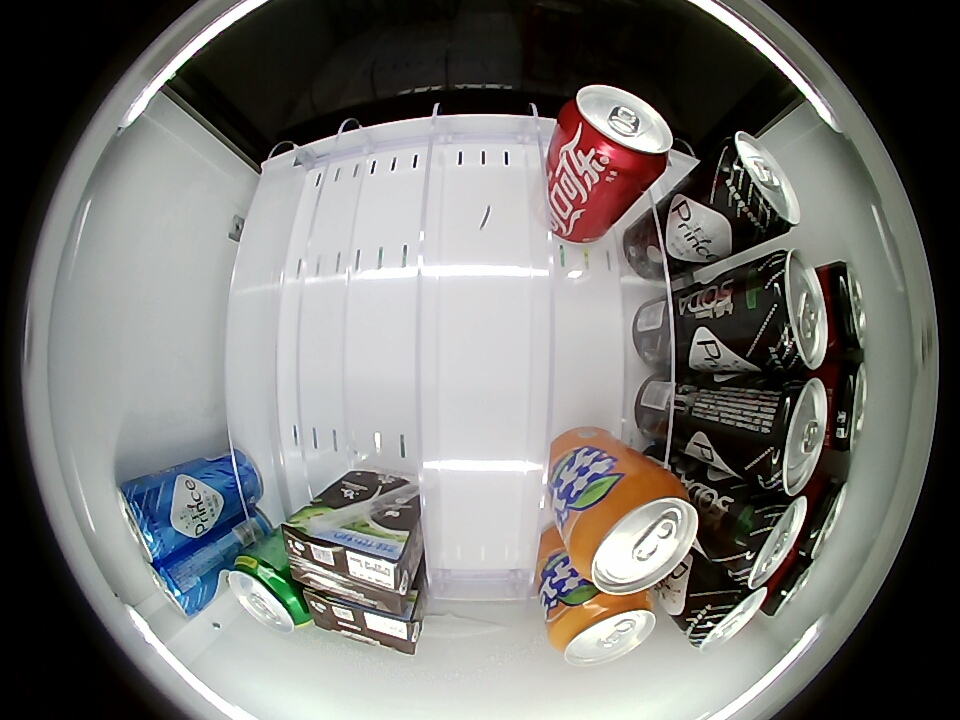fenda: (567, 471, 699, 596), (549, 591, 657, 667)
kele: (558, 84, 673, 179)
lingdukele: (794, 473, 849, 560), (817, 261, 866, 356), (821, 359, 867, 452), (763, 553, 817, 618)
qingdaowangzi-1: (737, 377, 828, 496), (710, 130, 801, 247), (745, 249, 826, 376), (718, 491, 806, 588), (681, 574, 768, 651)
qingdaowangzi-2: (116, 474, 181, 564), (144, 551, 218, 617)
weitanai2: (281, 510, 417, 609), (306, 589, 424, 655)
xuebi2: (226, 552, 312, 634)
